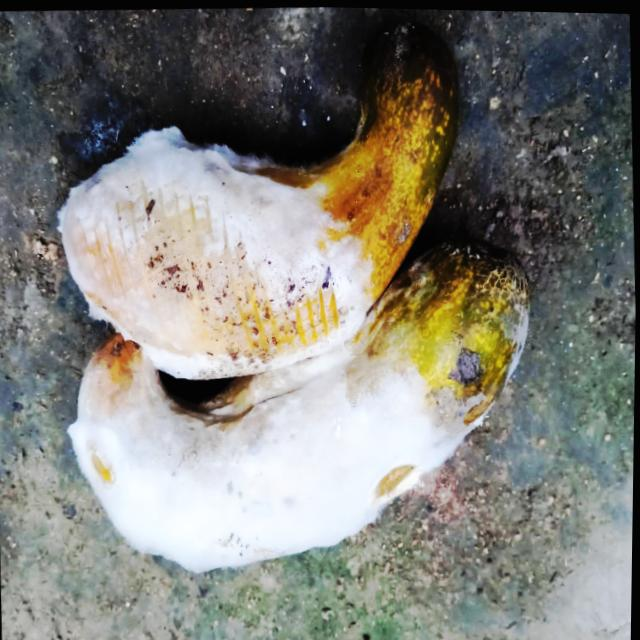Pythium-Fruit-Rot: (63, 328, 486, 587), (55, 116, 377, 386)
